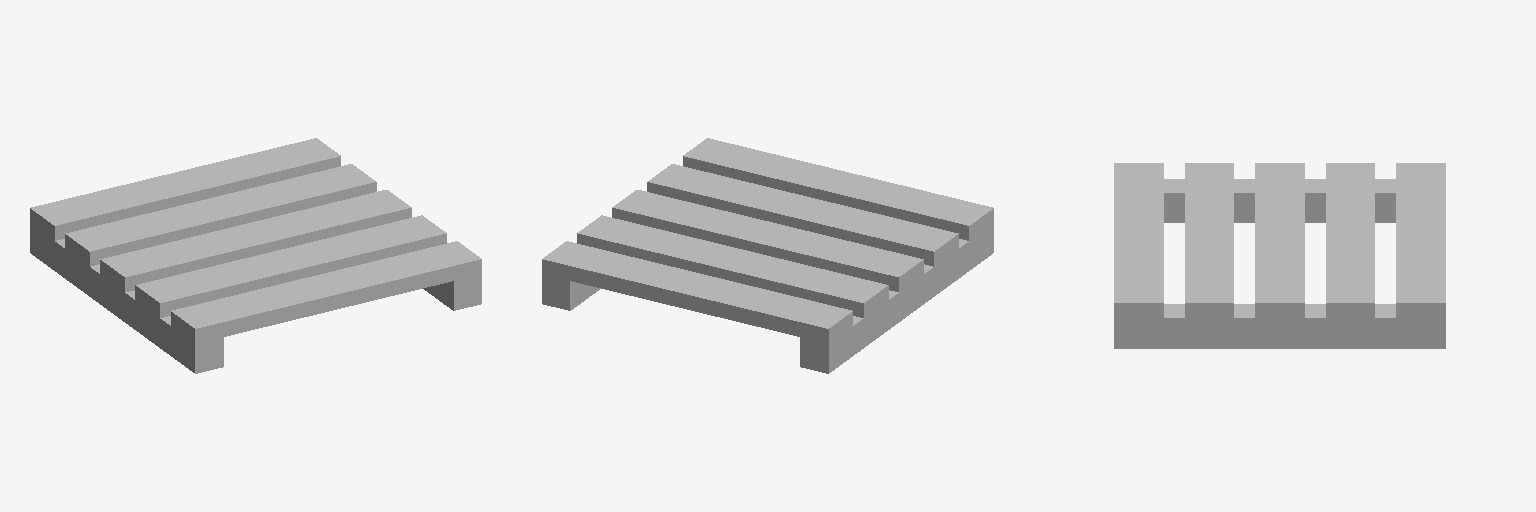
The model's file is pallet.obj.
3 renders of one model, left to right at view 1: azimuth 30°, elevation 25°; view 2: azimuth 150°, elevation 25°; view 3: azimuth 270°, elevation 25°, orthographic.
Parts seen in each view (by area): view 1: pallet; view 2: pallet; view 3: pallet.
Part boxes in pixels (x1,y1,x2,y2): pallet: (30, 138, 481, 373); pallet: (542, 138, 993, 373); pallet: (1114, 163, 1445, 348).
Size of the model in its own units: 1 by 0.15 by 1.